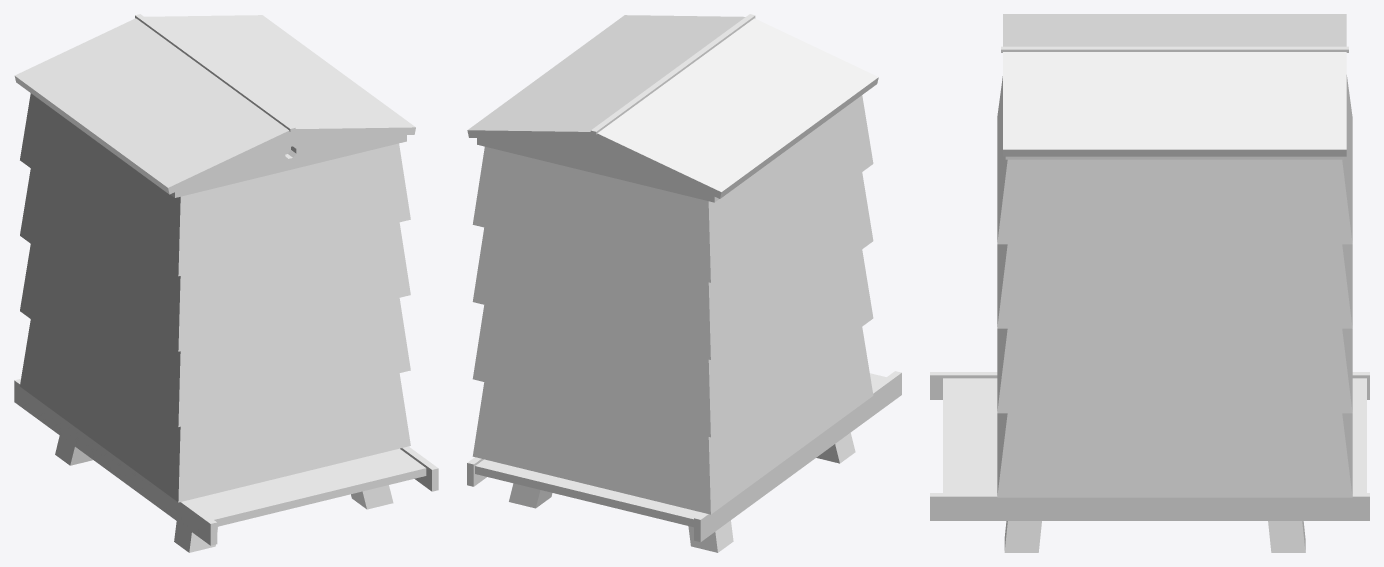
File: Bld_Beehive_01.glb
The picture shows the model from 3 angles, left to right: view 1: azimuth 30°, elevation 25°; view 2: azimuth 150°, elevation 25°; view 3: azimuth 270°, elevation 25°; orthographic projection. The views are drawn at different scales.
Visible parts, largest first — view 1: Bld_Beehive_01; view 2: Bld_Beehive_01; view 3: Bld_Beehive_01.
Boxes of the visible parts, x1,y1,x2,y2 form: Bld_Beehive_01: [14, 14, 438, 552]; Bld_Beehive_01: [467, 14, 901, 552]; Bld_Beehive_01: [930, 14, 1369, 552].
Size of the model in its own units: 0.6905 by 1.07 by 0.9466.
Materials: 1 (1 with a texture image).
